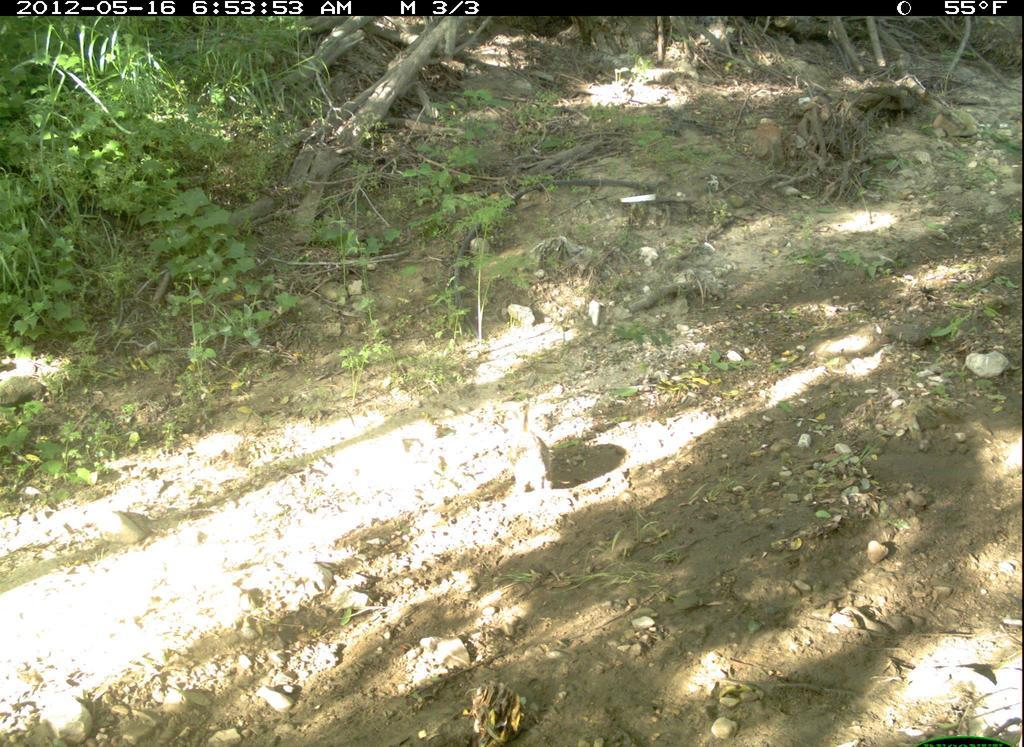rabbit: (502, 400, 560, 500)
